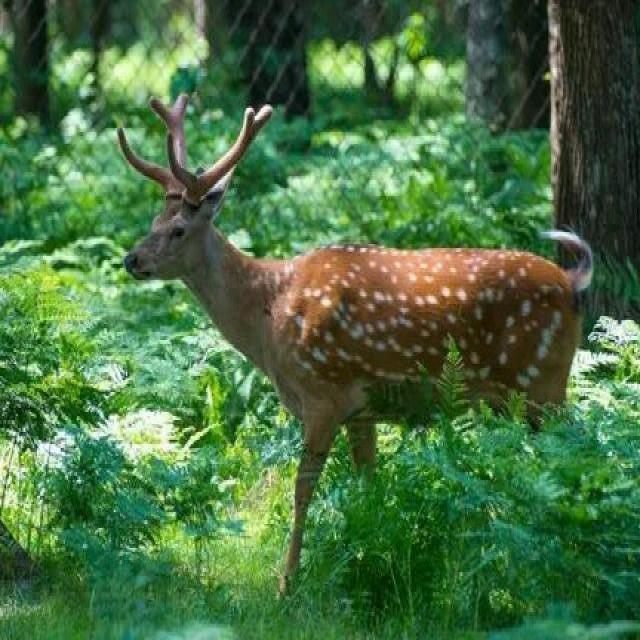deer: (126, 90, 576, 505)
